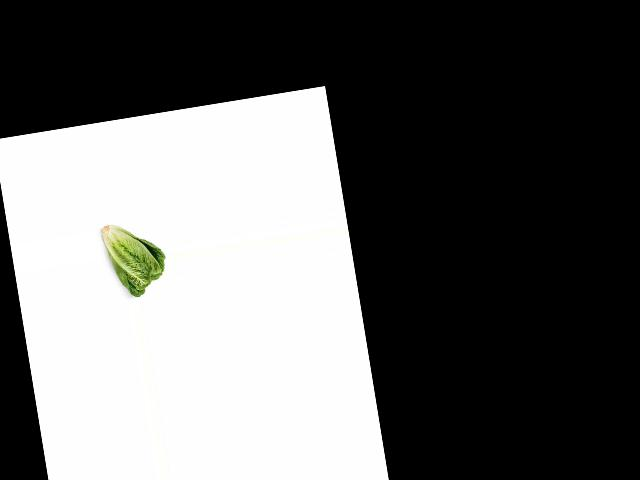lettuce: (98, 215, 170, 300)
